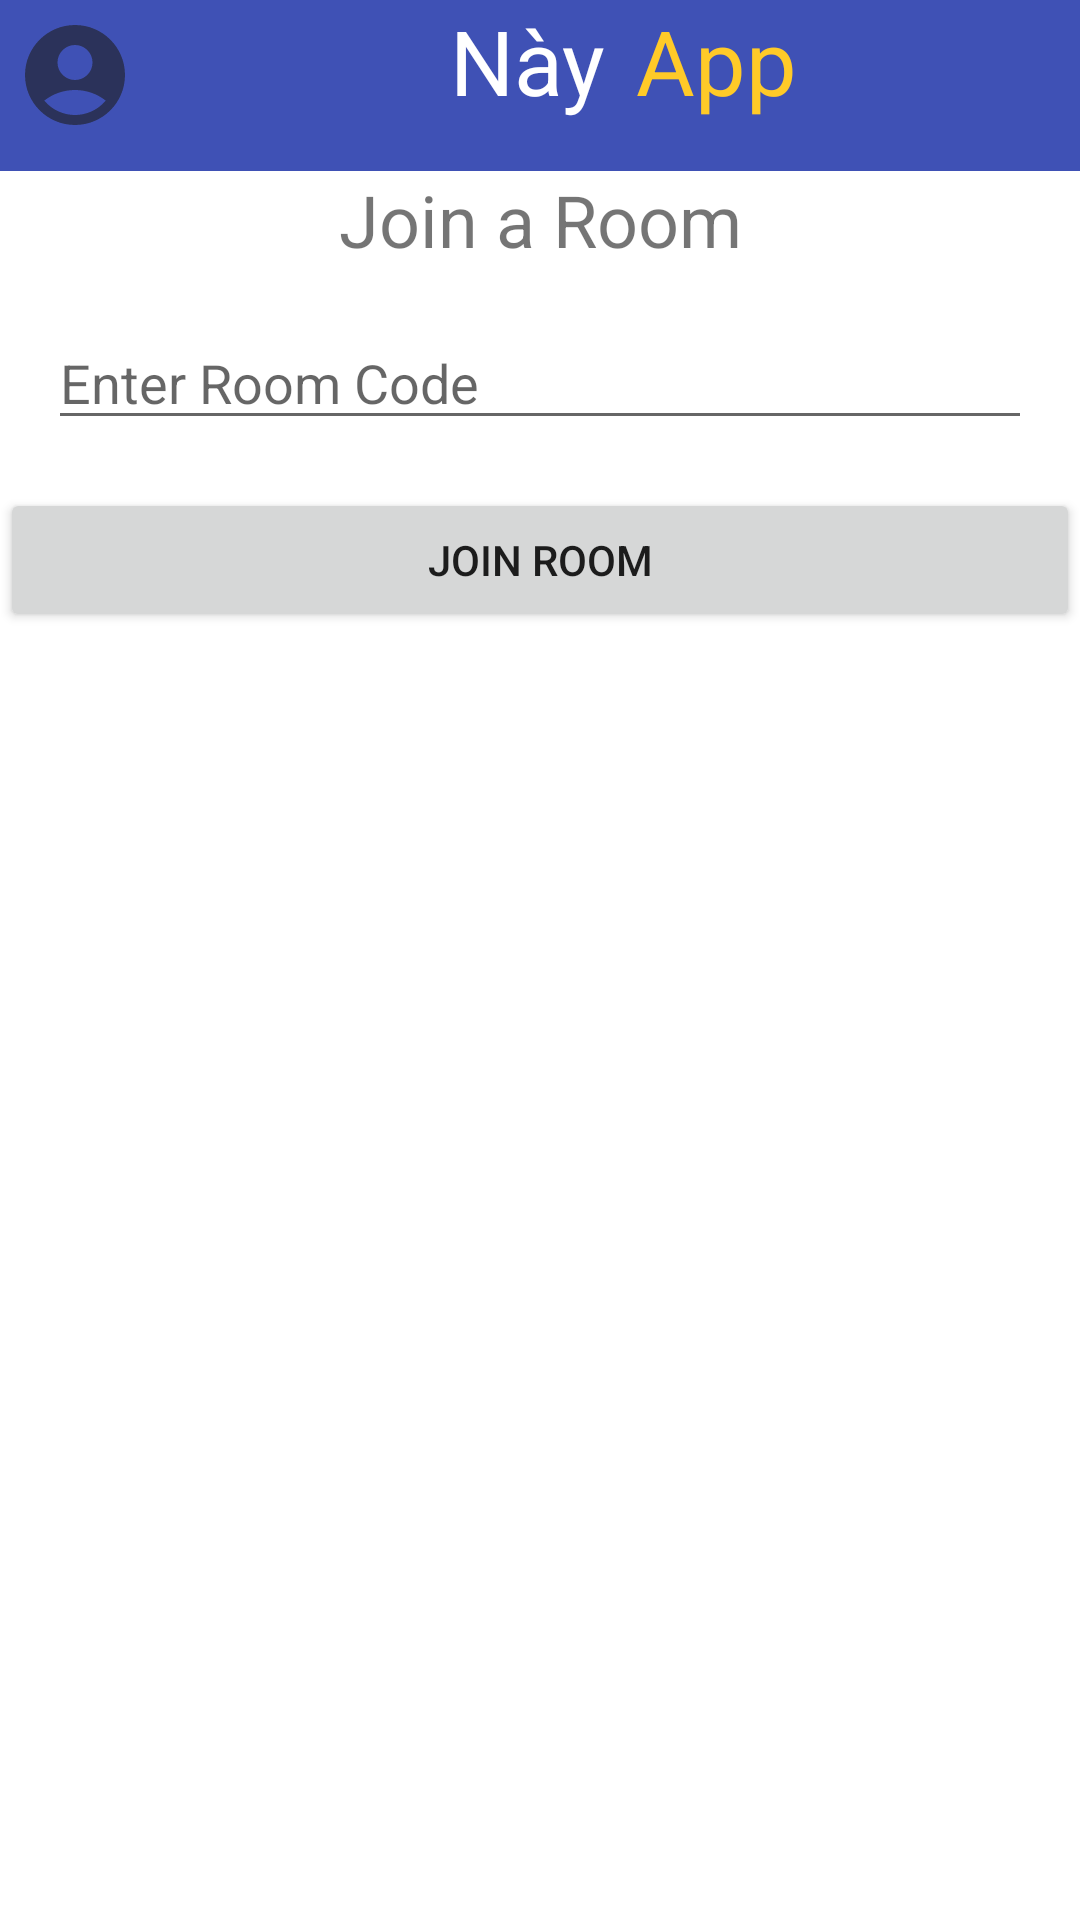

Named icons in this screenshot (1080px x 1920px) and their centers, point (x, y):
account: point (75, 75)
